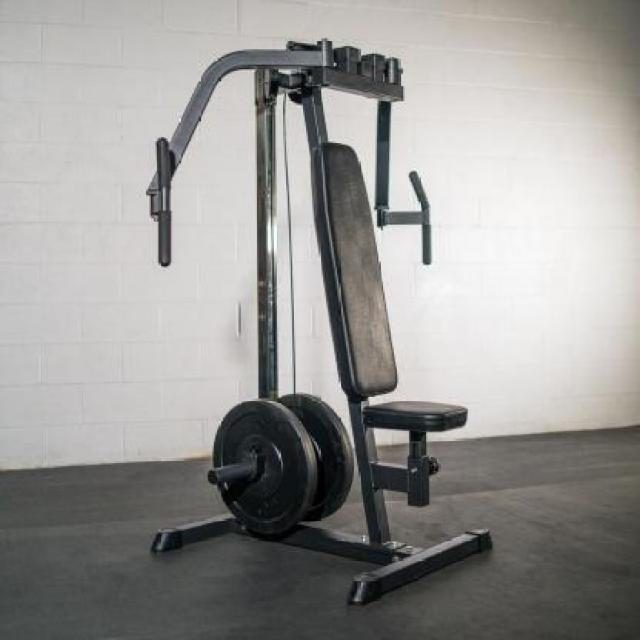chest fly machine: (133, 32, 504, 617)
